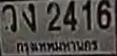1: (82, 0, 90, 29)
2: (46, 1, 60, 30)
4: (62, 0, 76, 30)
6: (96, 0, 110, 28)
A07: (21, 2, 35, 31)
A37: (1, 4, 16, 31)
BKK: (14, 37, 98, 54)
